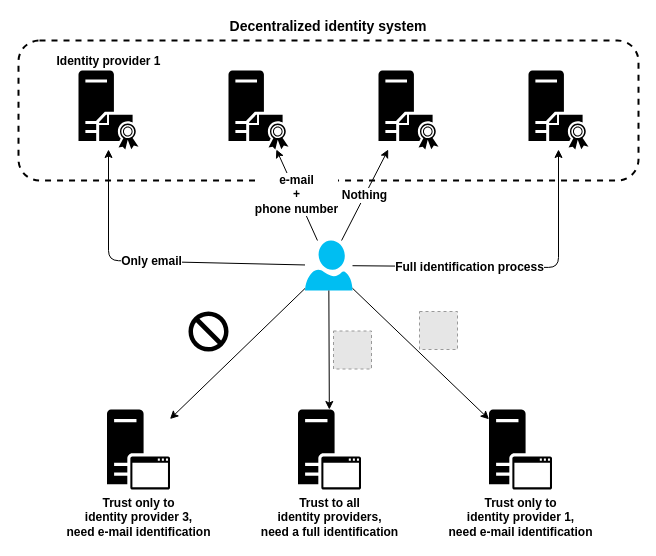
This 656x556 diagram has some shape labels left out. Grey dashed boxes stand in for pictures. Each missing label, with the centre of its shape:
"Identity provider 2" goes at point 258,109.
"Identity provider 3" goes at point 408,109.
"Identity provider 4" goes at point 558,109.
